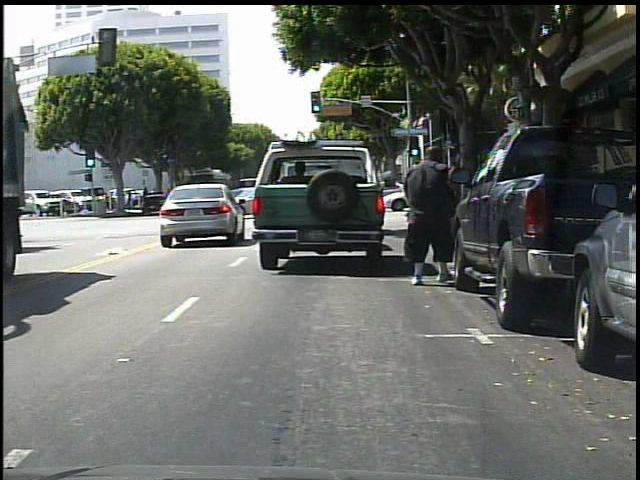person: (400, 142, 458, 290)
